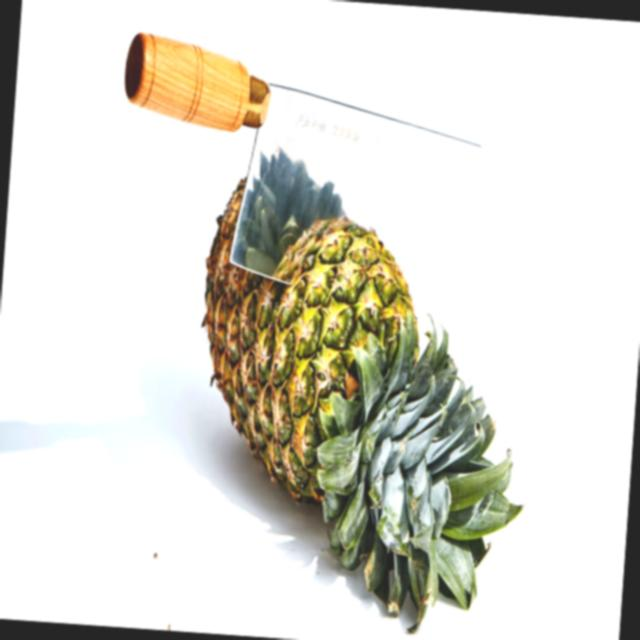cleaver: (109, 25, 482, 328)
